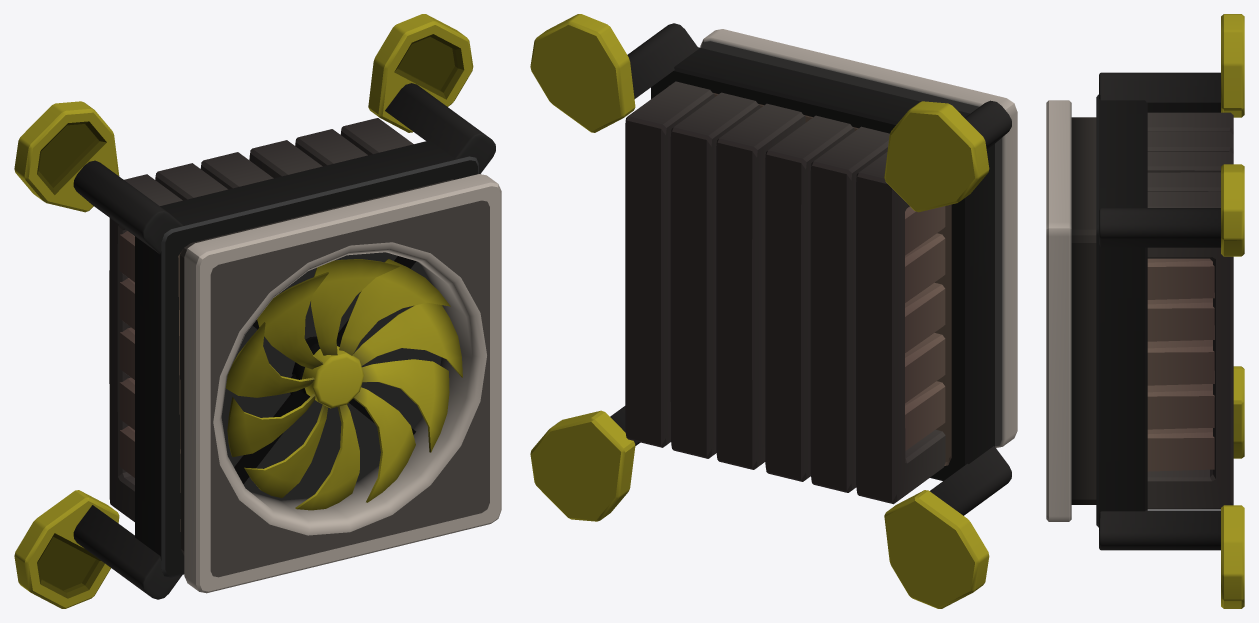
The model's file is Cooling_systems_lvl_04_V04.fbx.
3 renders of one model, left to right at view 1: azimuth 30°, elevation 25°; view 2: azimuth 150°, elevation 25°; view 3: azimuth 270°, elevation 25°, orthographic. The views are drawn at different scales.
Parts seen in each view (by area): view 1: Body_Cooling, Fan_Cooling; view 2: Body_Cooling; view 3: Body_Cooling.
Part boxes in pixels (box(x1,y1,x2,y2)): Body_Cooling: box(14, 14, 501, 608); Fan_Cooling: box(226, 259, 462, 510); Body_Cooling: box(530, 14, 1017, 608); Body_Cooling: box(1046, 14, 1244, 608).
Size of the model in its own units: 49.19 by 52.17 by 21.46.
